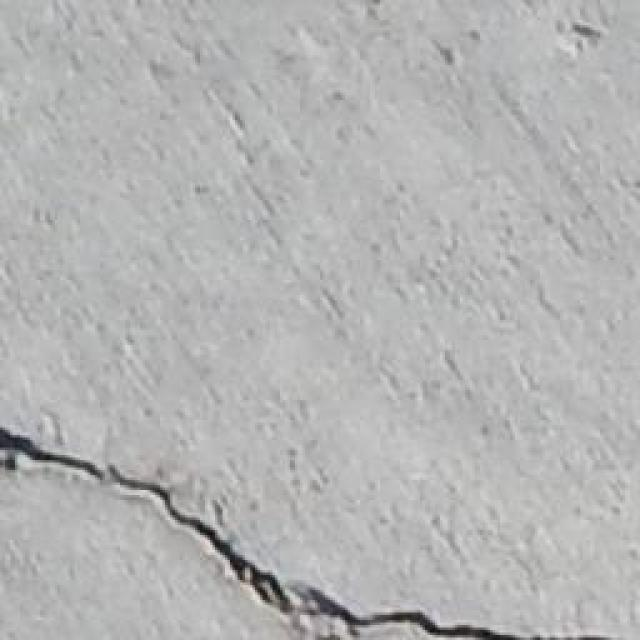concrete-crack: (0, 428, 292, 612), (305, 588, 558, 640)
